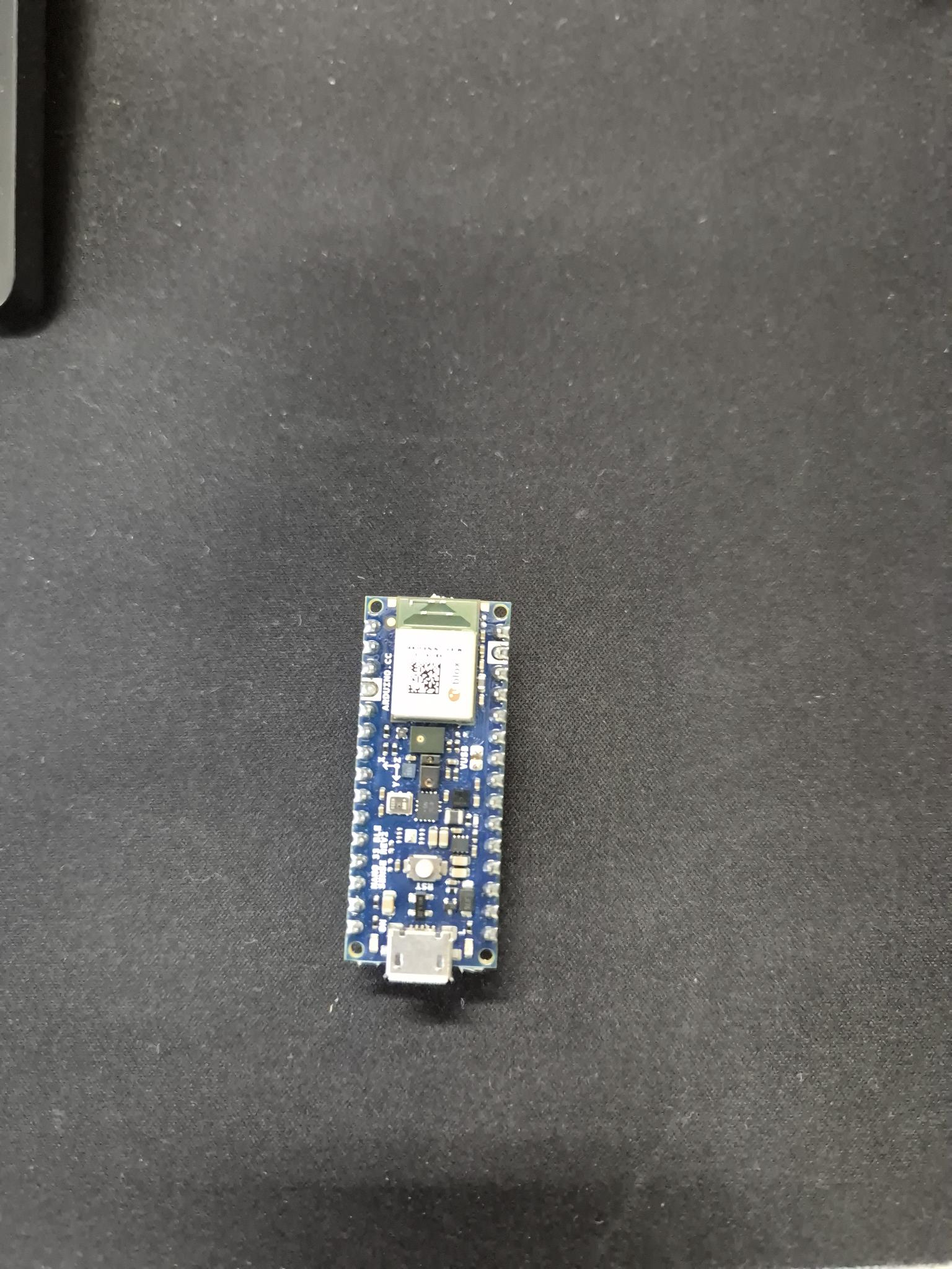arduino-nano-ble-sense: (345, 596, 511, 984)
